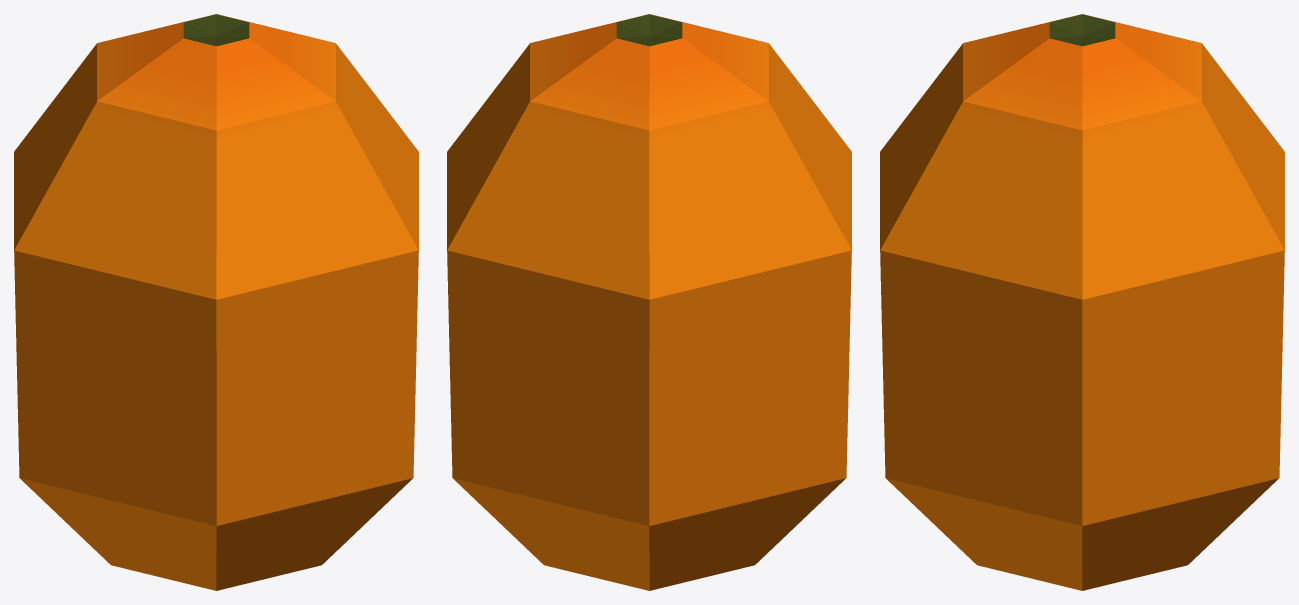
File: SmallOrange.fbx
3 views of the same model, side by side, from view 1: azimuth 30°, elevation 25°; view 2: azimuth 150°, elevation 25°; view 3: azimuth 270°, elevation 25° (orthographic).
Parts seen in each view (by area): view 1: SmallOrange_All; view 2: SmallOrange_All; view 3: SmallOrange_All.
Part boxes in pixels (x1,y1,x2,y2): SmallOrange_All: [14, 14, 418, 590]; SmallOrange_All: [447, 14, 851, 590]; SmallOrange_All: [880, 14, 1284, 590].
Bounding box in the file's own units: 3.45 × 4.27 × 2.99.
1 material, 1 textured.
